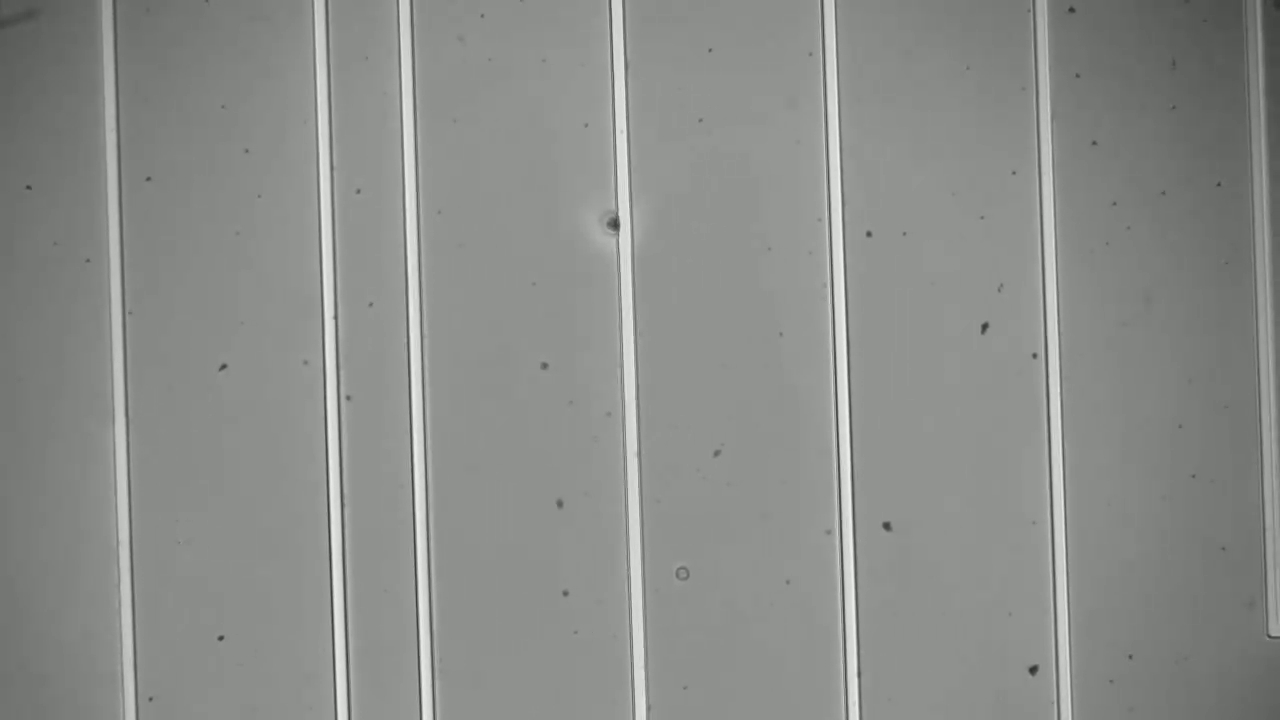stains_enbedded: (596, 205, 636, 242)
